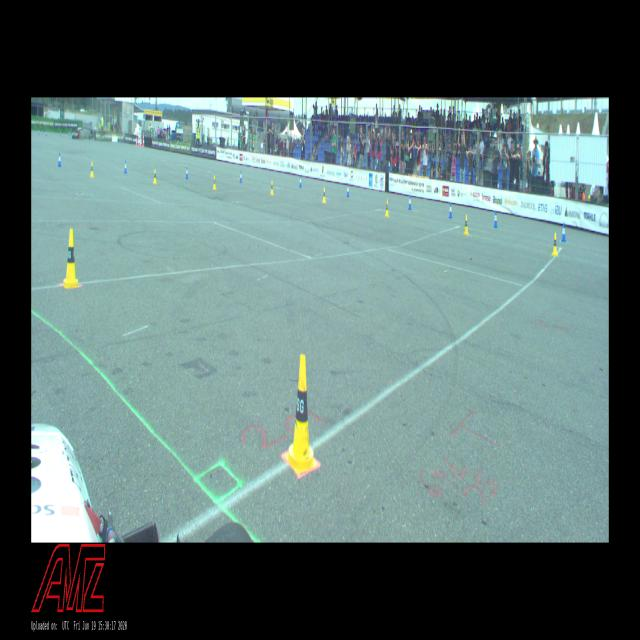blue_cone: (560, 222, 566, 241), (493, 212, 498, 228), (448, 202, 452, 218), (185, 167, 189, 179), (408, 195, 411, 210), (58, 152, 61, 166), (124, 160, 127, 173), (346, 184, 349, 197), (299, 175, 302, 188), (239, 171, 242, 182), (38, 130, 40, 134), (46, 130, 47, 136)
yellow_cone: (284, 355, 319, 474), (62, 229, 79, 289), (552, 232, 558, 256), (464, 214, 468, 234), (384, 199, 388, 217), (90, 161, 94, 177), (322, 187, 326, 203), (153, 169, 157, 184), (213, 176, 216, 189), (271, 181, 273, 195)
